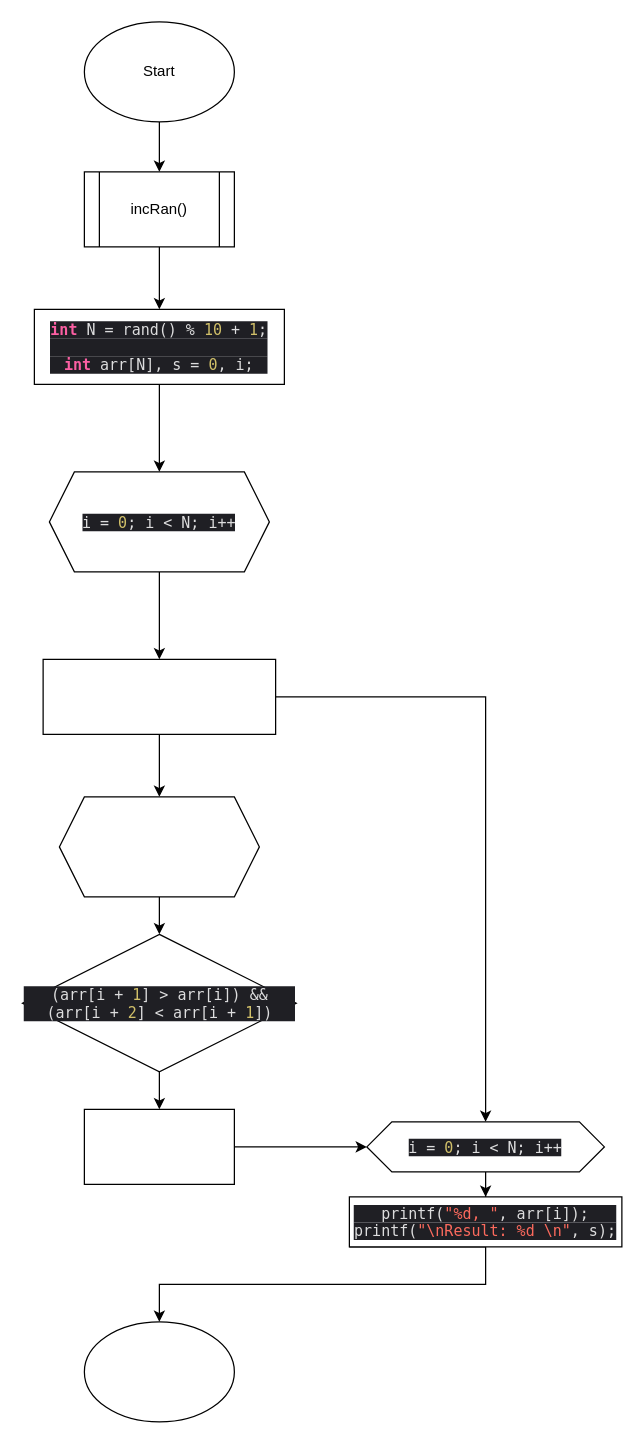
Some shapes in this 644 by 1444 pixel diagram are drawn without their labels. The centre of each missing label's shape, as x and y in pixels:
"arr[i] = rand() % 100 ;" belongs at point (159, 696).
"End" belongs at point (158, 1371).
"i = 0 ; i < N - 2 ; i++" belongs at point (158, 846).
"s += 1 ;" belongs at point (158, 1146).
